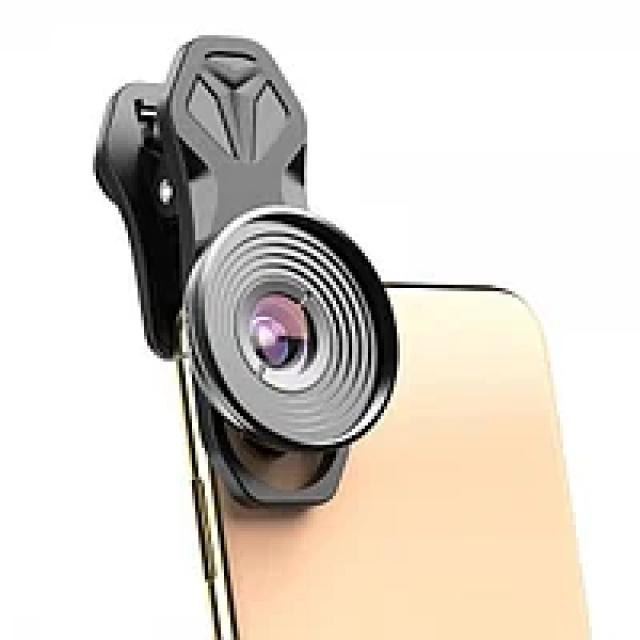hidden camera: (201, 219, 397, 444)
